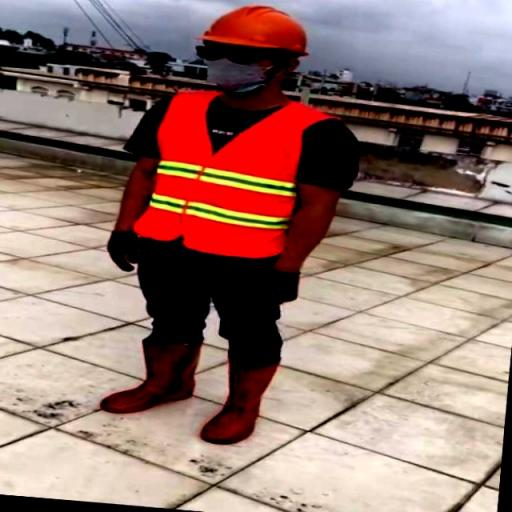Person: (36, 2, 434, 459)
boots: (98, 327, 210, 418), (199, 354, 297, 448)
gloves: (246, 260, 304, 308), (99, 224, 137, 278)
goggles: (192, 36, 302, 66)
helmet: (194, 0, 317, 64)
vest: (126, 76, 341, 258)
